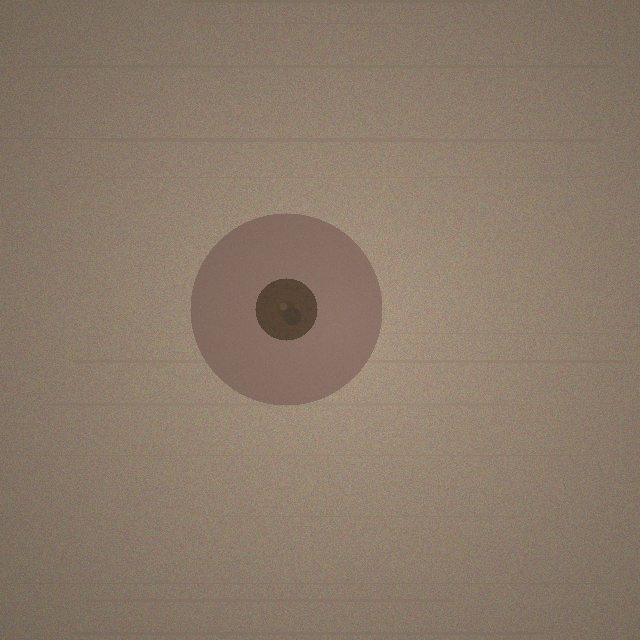cold_weld: (190, 213, 382, 405)
